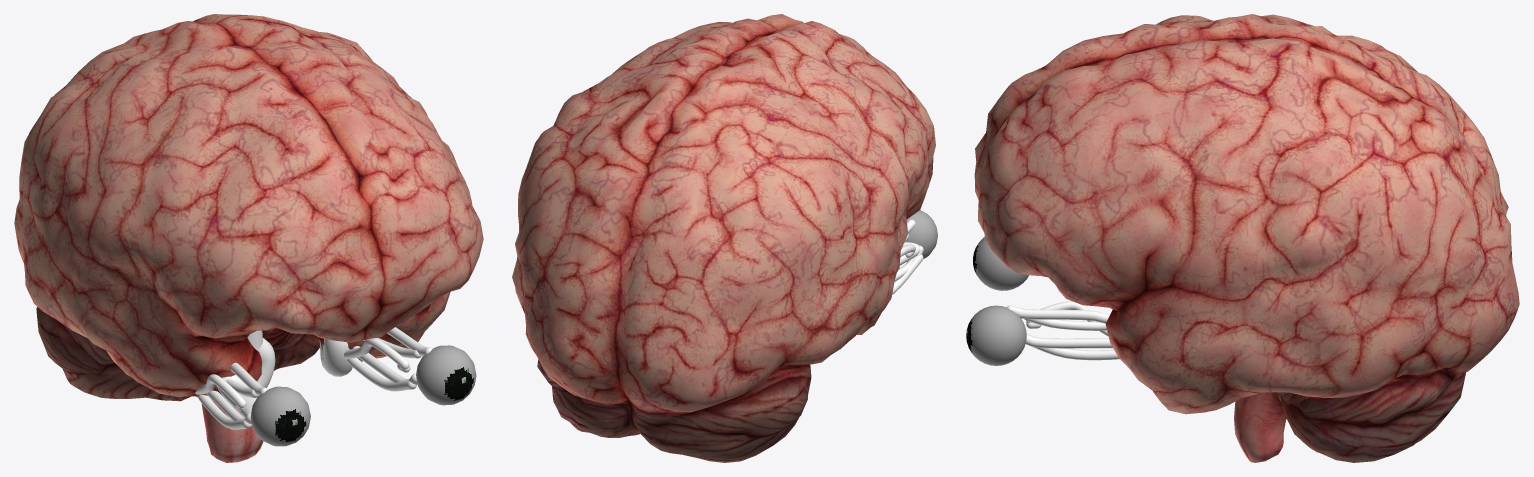
Rendered from brains 1.fbx.
3 views of the same model, side by side, from view 1: azimuth 30°, elevation 25°; view 2: azimuth 150°, elevation 25°; view 3: azimuth 270°, elevation 25° (orthographic). The views are drawn at different scales.
Visible parts, largest first — view 1: node_id36, node_id15, node_id40, node_id8, node_id11, node_id48, node_id58, node_id33, node_id26, node_id52, node_id20; view 2: node_id36, node_id15; view 3: node_id36, node_id40, node_id15, node_id55, node_id52, node_id58, node_id45.
Boxes of the visible parts, left/top/right/bottom form: node_id36: left=14, top=14, right=483, bottom=462; node_id15: left=250, top=386, right=310, bottom=446; node_id40: left=416, top=345, right=476, bottom=405; node_id8: left=319, top=338, right=352, bottom=376; node_id11: left=229, top=330, right=275, bottom=408; node_id48: left=344, top=338, right=410, bottom=372; node_id58: left=347, top=358, right=416, bottom=391; node_id33: left=195, top=374, right=246, bottom=410; node_id26: left=197, top=395, right=252, bottom=429; node_id52: left=352, top=346, right=417, bottom=384; node_id20: left=206, top=390, right=252, bottom=425; node_id36: left=512, top=14, right=935, bottom=462; node_id15: left=905, top=210, right=937, bottom=261; node_id36: left=974, top=14, right=1519, bottom=462; node_id40: left=966, top=305, right=1026, bottom=365; node_id15: left=973, top=237, right=1028, bottom=290; node_id55: left=1007, top=305, right=1109, bottom=323; node_id52: left=1025, top=334, right=1112, bottom=348; node_id58: left=1027, top=334, right=1119, bottom=360; node_id45: left=1024, top=319, right=1106, bottom=330.
Bounding box in the file's own units: 0.4549 × 0.512 × 0.6053.
Materials: 16 (3 with a texture image).
